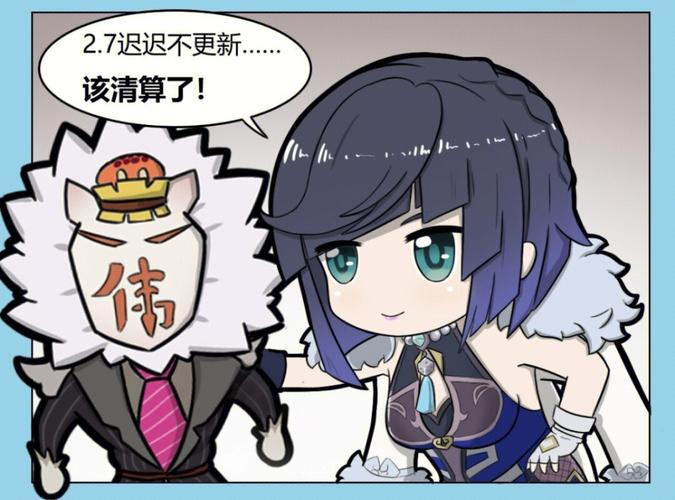夜兰: (277, 46, 614, 490)
